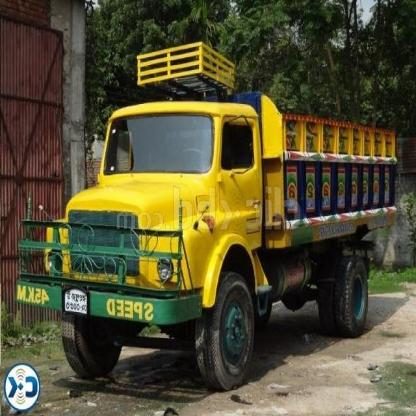truck: (35, 67, 395, 380)
